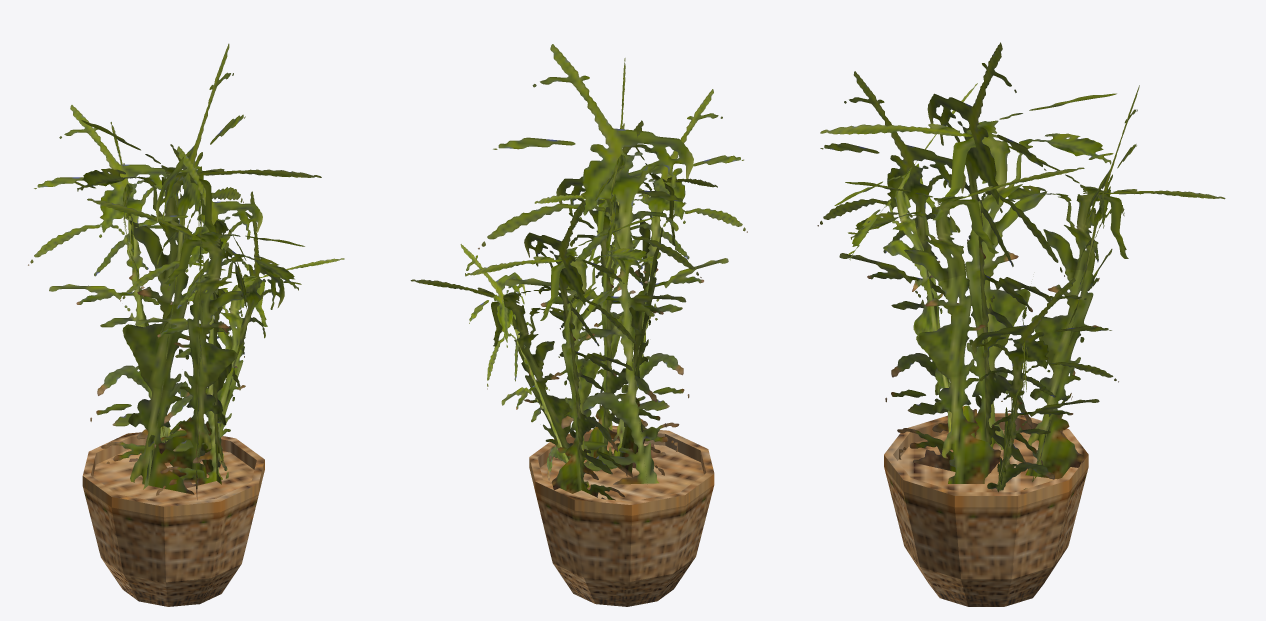
Rendered from Macetagrande.fbx.
3 renders of one model, left to right at view 1: azimuth 30°, elevation 25°; view 2: azimuth 150°, elevation 25°; view 3: azimuth 270°, elevation 25°, orthographic. The views are drawn at different scales.
Parts seen in each view (by area): view 1: Plane.002; view 2: Plane.002; view 3: Plane.002.
Part boxes in pixels (<box>): Plane.002: <box>28,43,344,606</box>; Plane.002: <box>410,44,747,606</box>; Plane.002: <box>817,42,1225,606</box>.
Size of the model in its own units: 520 by 861 by 597.
1 material, 1 textured.
